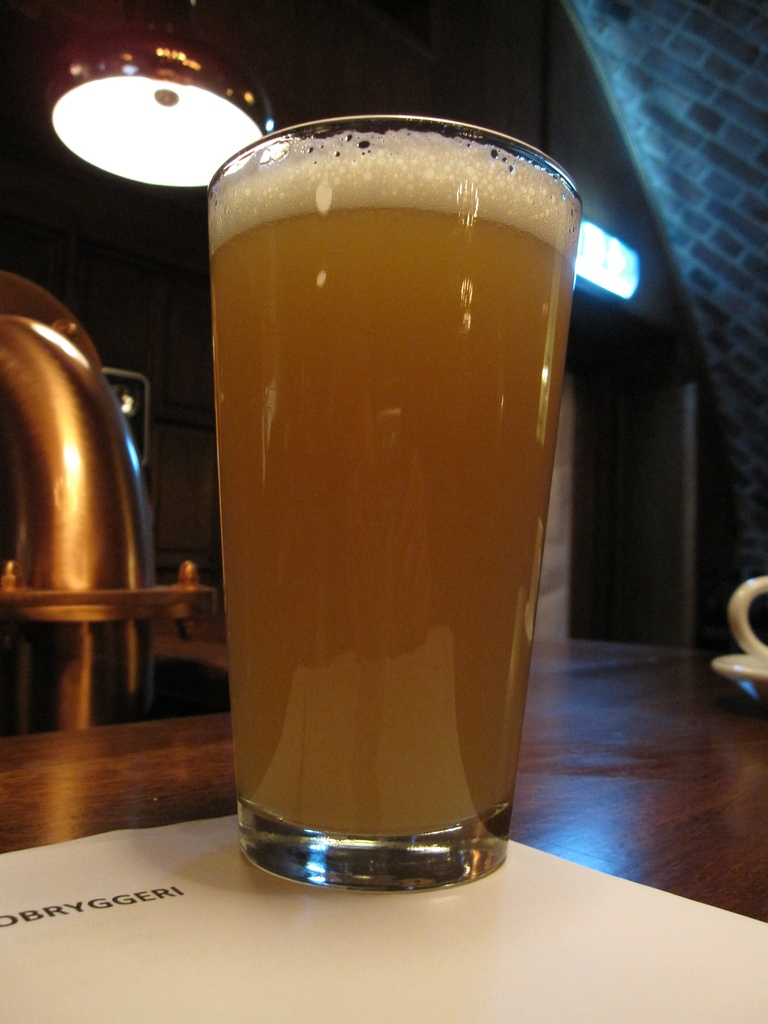Beer: (207, 111, 585, 938)
